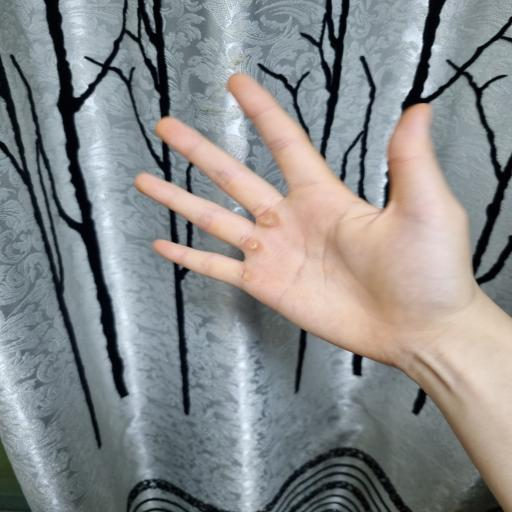Paper: (134, 67, 506, 363)
